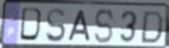3: (118, 10, 138, 45)
A: (66, 9, 92, 43)
D: (18, 6, 46, 44), (139, 9, 165, 45)
S: (45, 7, 67, 45), (94, 7, 115, 45)
